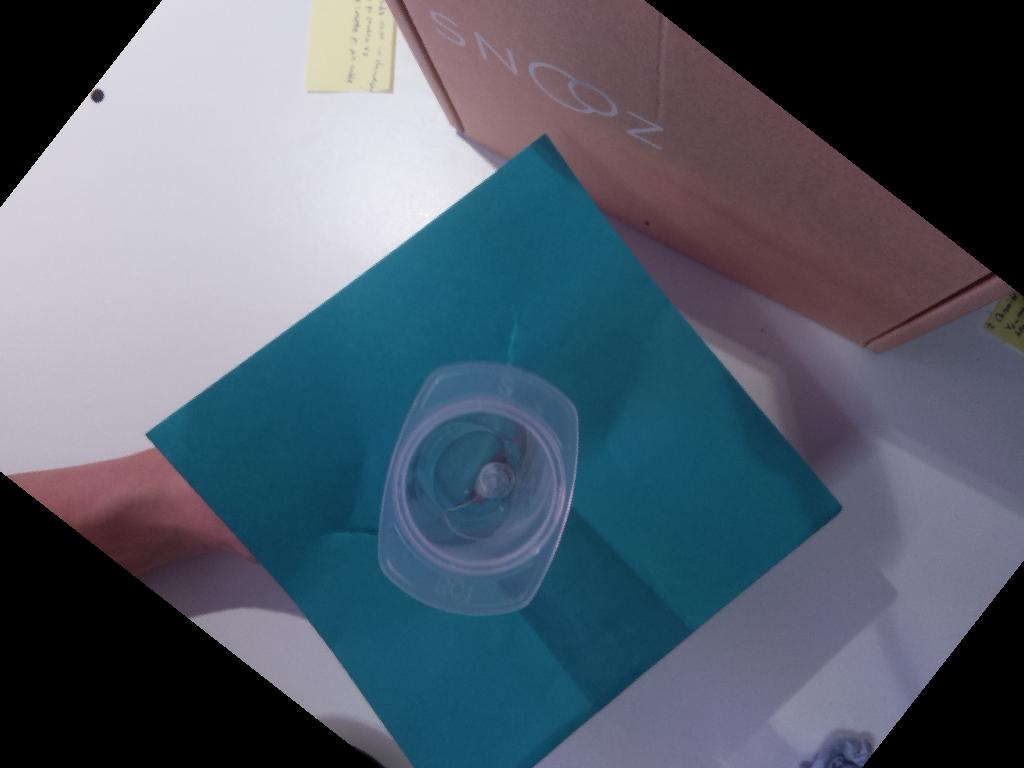clean: (377, 358, 581, 614)
